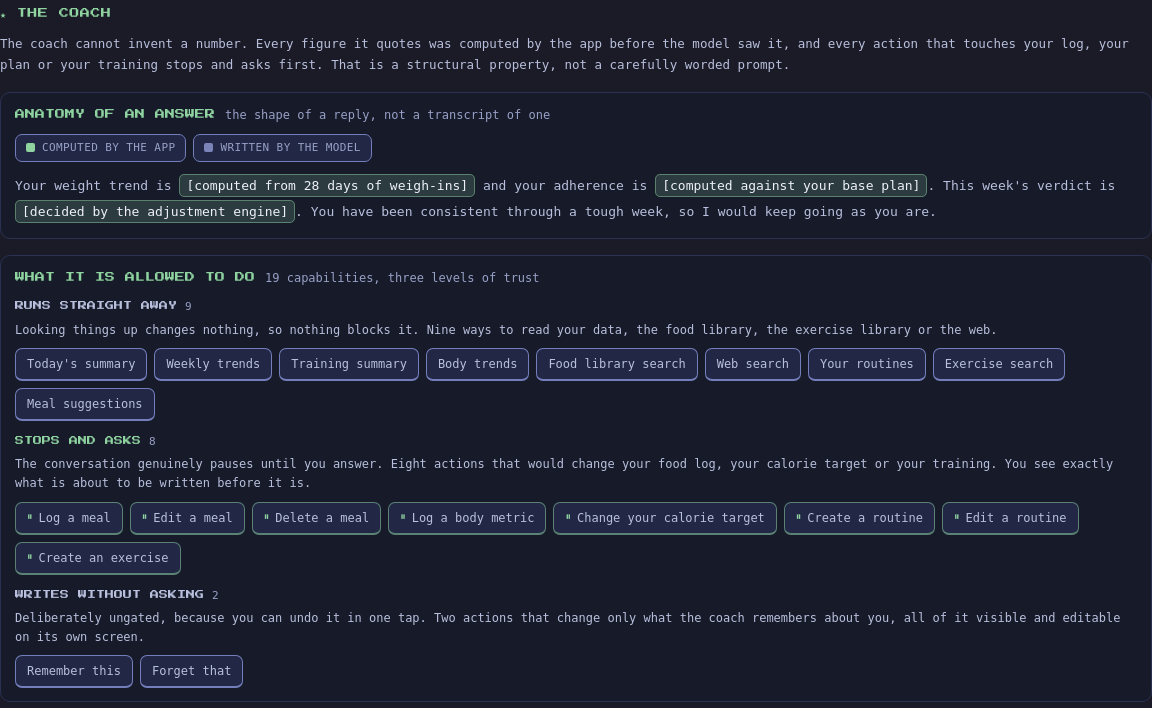
coach boundary › explains a capability on click
Expected: the text "A day's food log with macro totals and the metrics recorded that day." is not shown
Click the button "Today's summary".
click(81, 364)  # box [15,348,147,381]
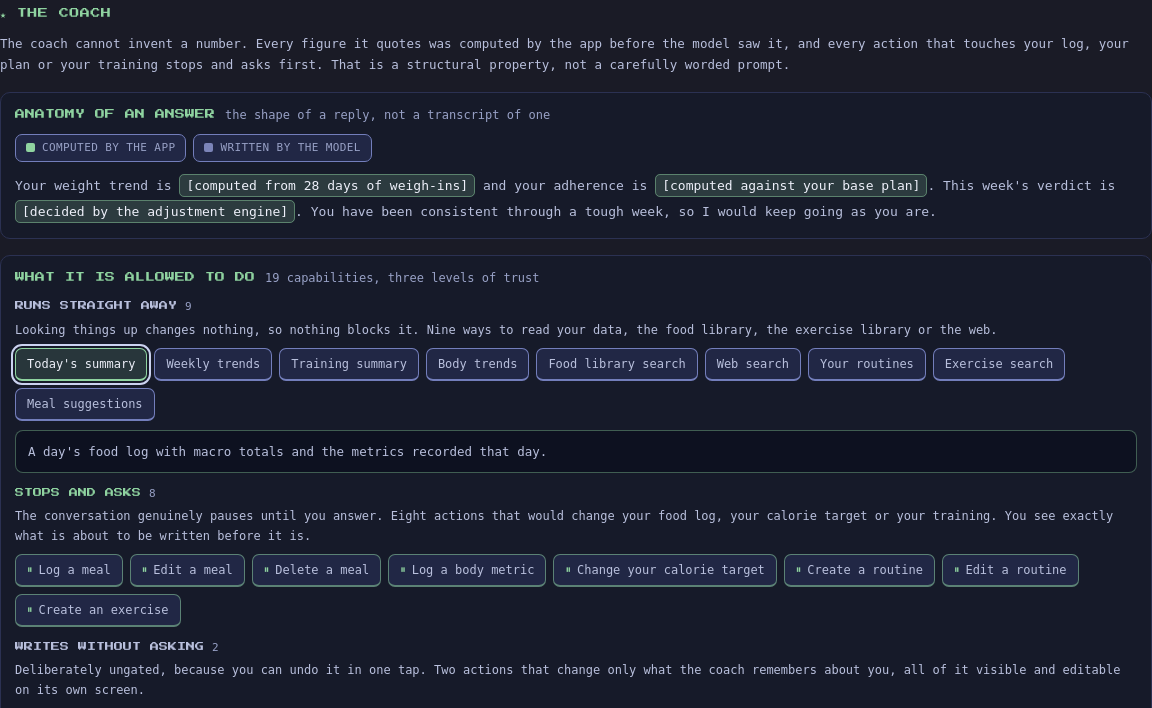
Now the text "A day's food log with macro totals and the metrics recorded that day." is shown, box [15,430,1137,473]
